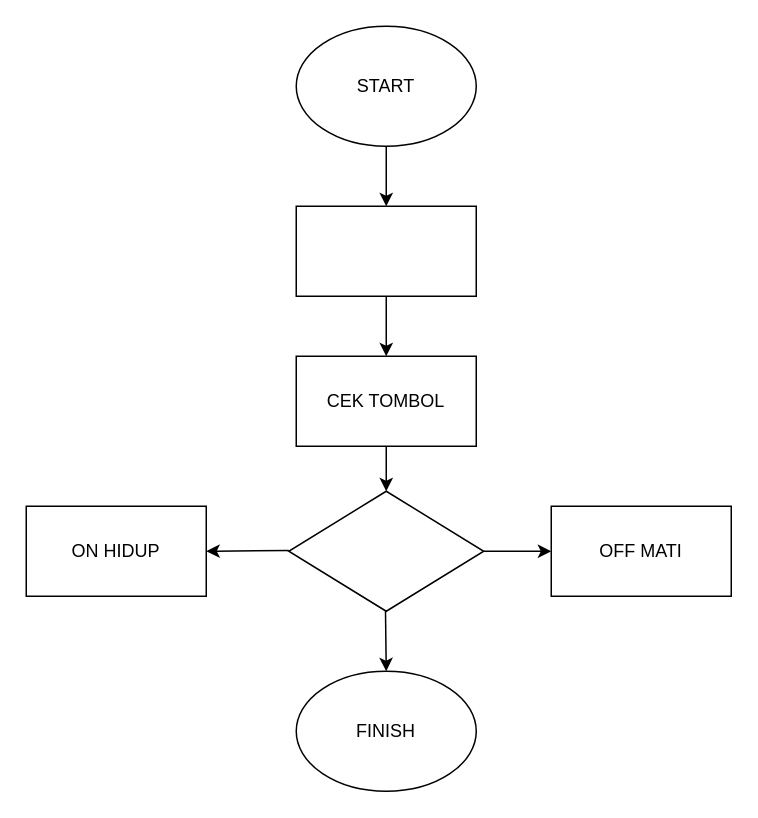
The diagram is 758 pixels wide and 818 high, and some of its shapes have lost their labels. Each missing label, with the centre of its shape:
BUKA WOKWI: (385,250)
ON/OFF: (385,550)
